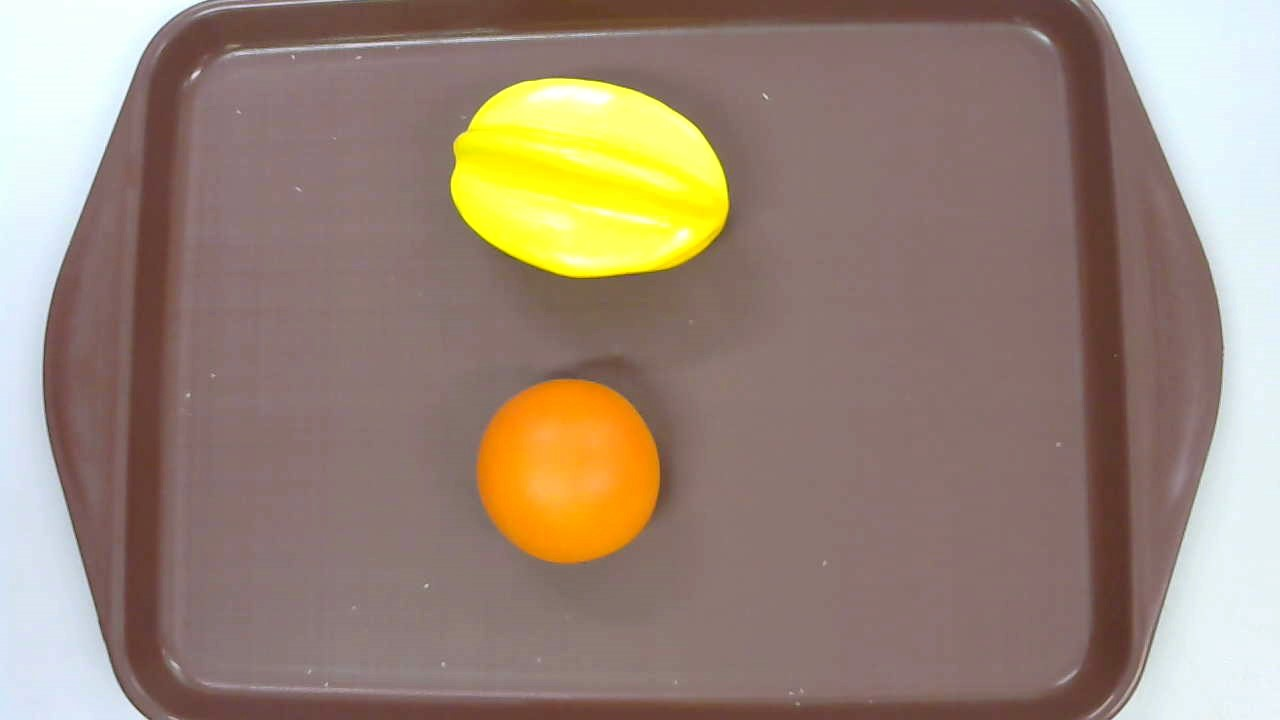bun: (474, 377, 660, 566)
star fruit: (447, 78, 730, 280)
